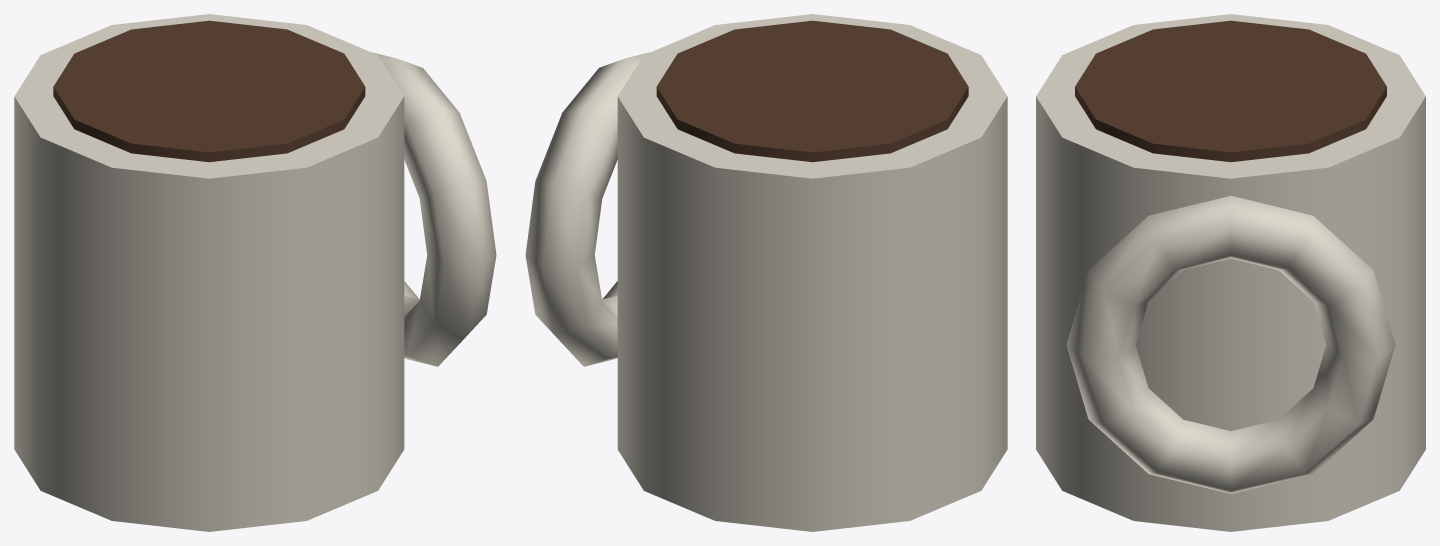
File: officeMug.glb
The picture shows the model from 3 angles, left to right: view 1: azimuth 30°, elevation 25°; view 2: azimuth 150°, elevation 25°; view 3: azimuth 270°, elevation 25°; orthographic projection.
Size of the model in its own units: 0.1019 by 0.0925 by 0.09.
